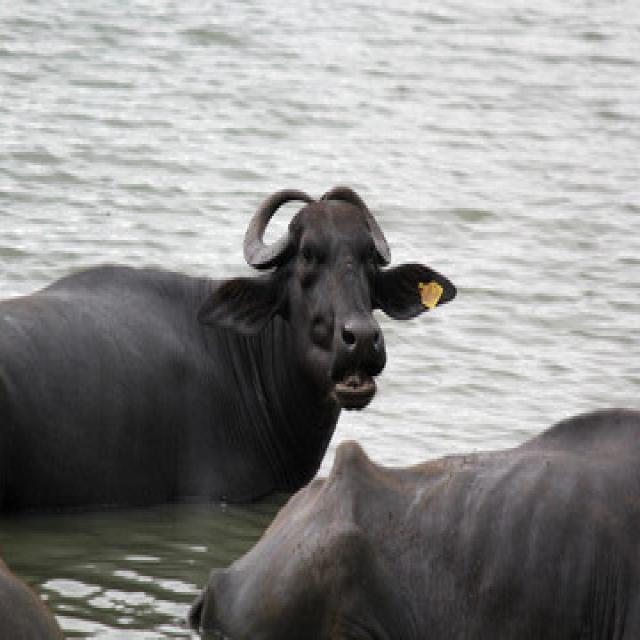Buffalo: (0, 179, 457, 515)
